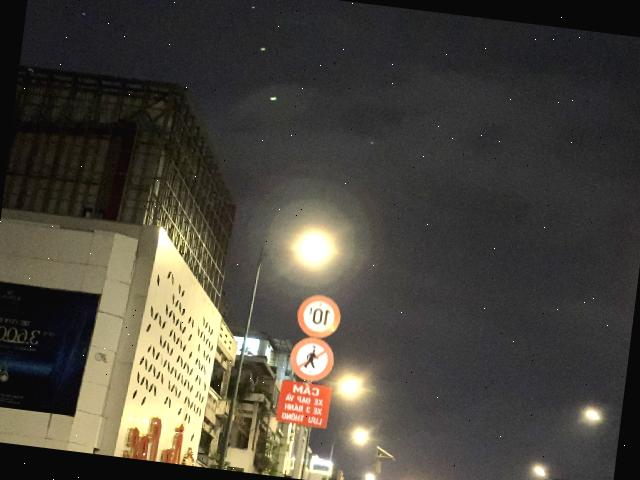cam-nguoi-di-bo: (287, 336, 336, 384)
han-che-trong-luong-xe: (294, 293, 342, 341)
